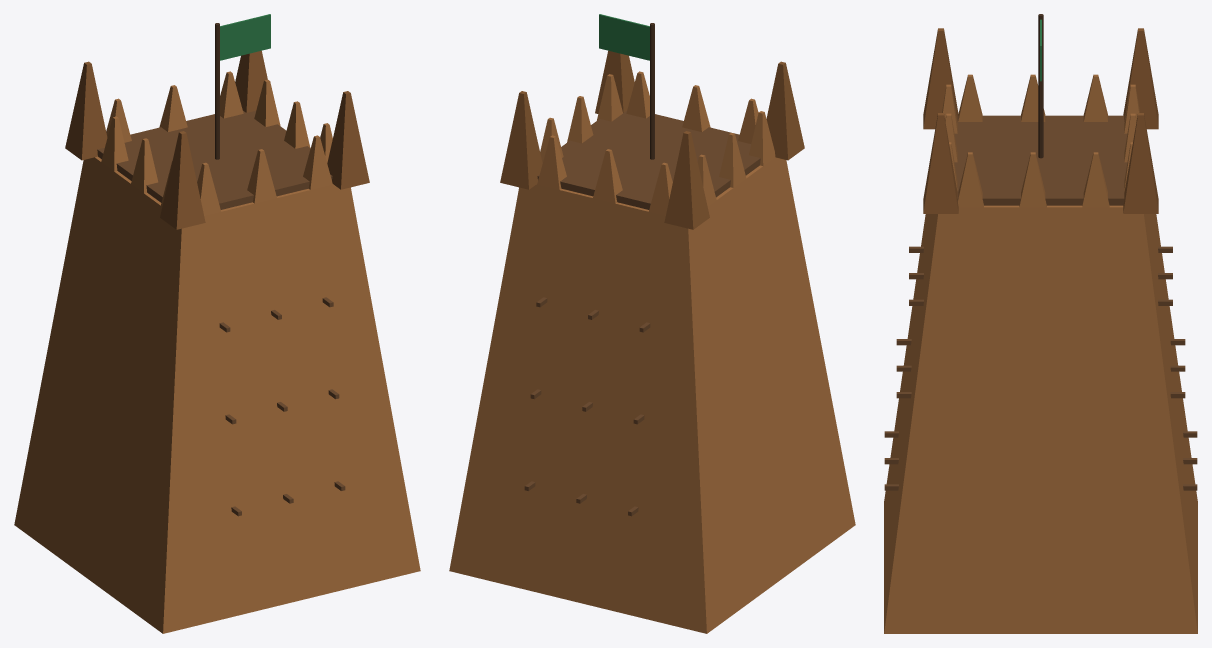
Rendered from tower.glb.
3 views of the same model, side by side, from view 1: azimuth 30°, elevation 25°; view 2: azimuth 150°, elevation 25°; view 3: azimuth 270°, elevation 25° (orthographic). The views are drawn at different scales.
Visible parts, largest first — view 1: Tower; view 2: Tower; view 3: Tower.
Part boxes in pixels (left/top/right/bottom): Tower: left=14, top=14, right=420, bottom=633; Tower: left=449, top=14, right=855, bottom=633; Tower: left=884, top=14, right=1197, bottom=633.
Bounding box in the file's own units: 8 × 15.55 × 8.
